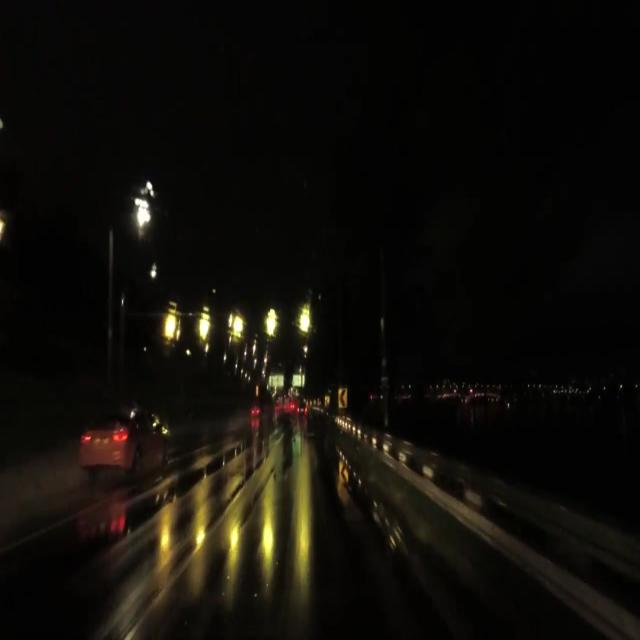Car: (75, 408, 170, 478)
